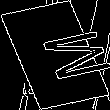M_W: (12, 25, 98, 85)
